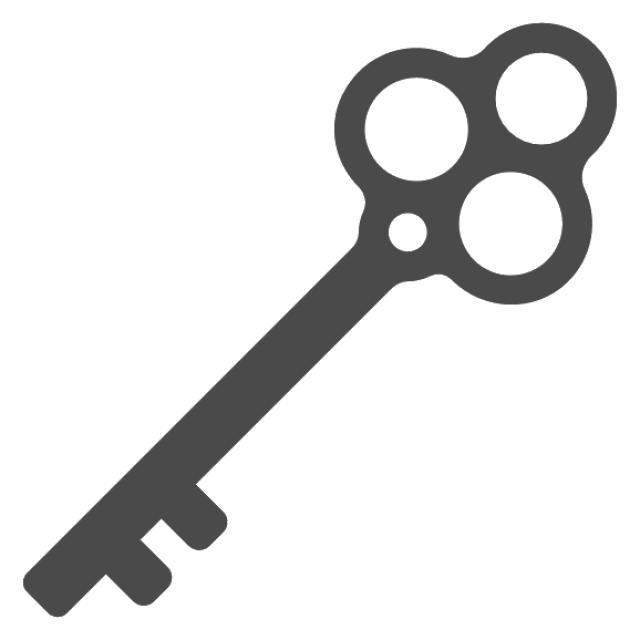key: (1, 16, 627, 634)
